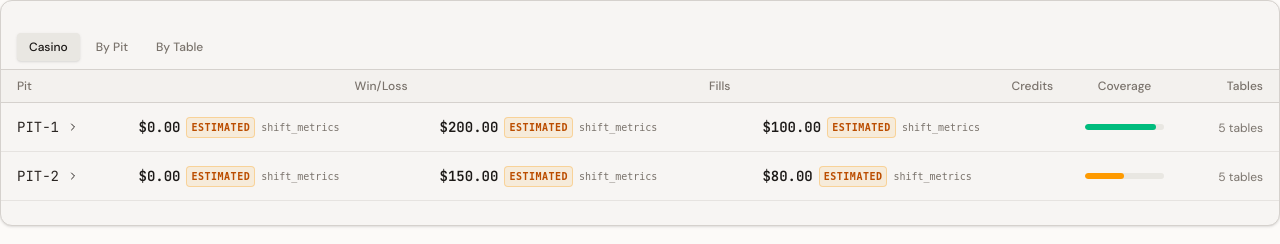
Scenario: MetricsTable › shows empty state in table tab when no tables
Step 1. Click the tab "By Table" → [180, 47], box [144, 33, 215, 61]
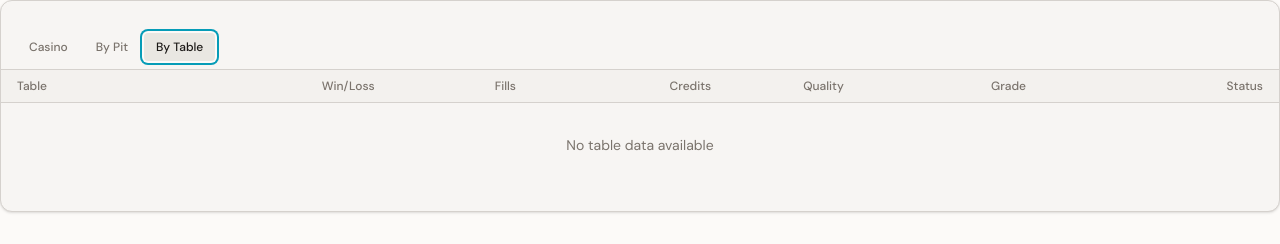
Now the text "No table data available" is shown, box [1, 103, 1279, 187]
